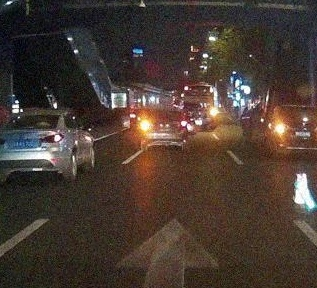L_light: (141, 124, 152, 128)
R_light: (174, 121, 186, 126)
T_light: (162, 111, 171, 113)
night-left: (140, 109, 187, 152)
